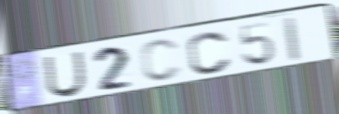2: (90, 44, 138, 95)
5: (237, 20, 278, 68)
C: (138, 37, 185, 84), (186, 30, 234, 76)
I: (283, 14, 302, 63)
U: (41, 50, 87, 100)
